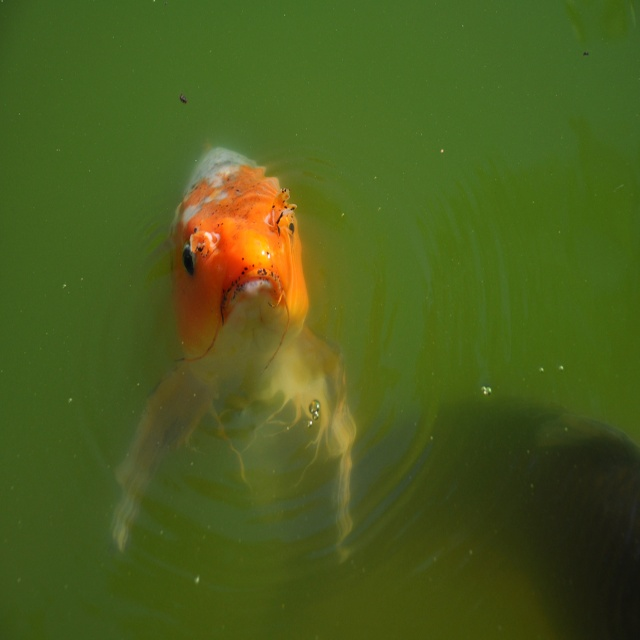Goldfish: (154, 161, 325, 390)
